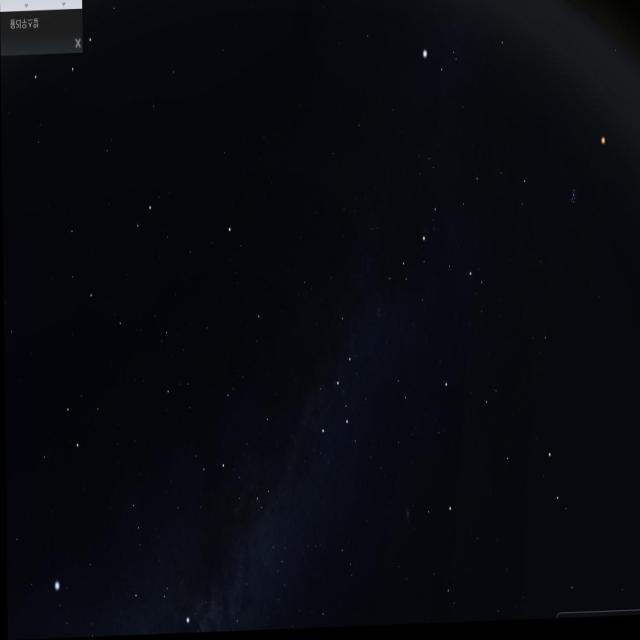cassiopeia: (311, 290, 367, 463)
pleiades: (566, 190, 578, 214)
